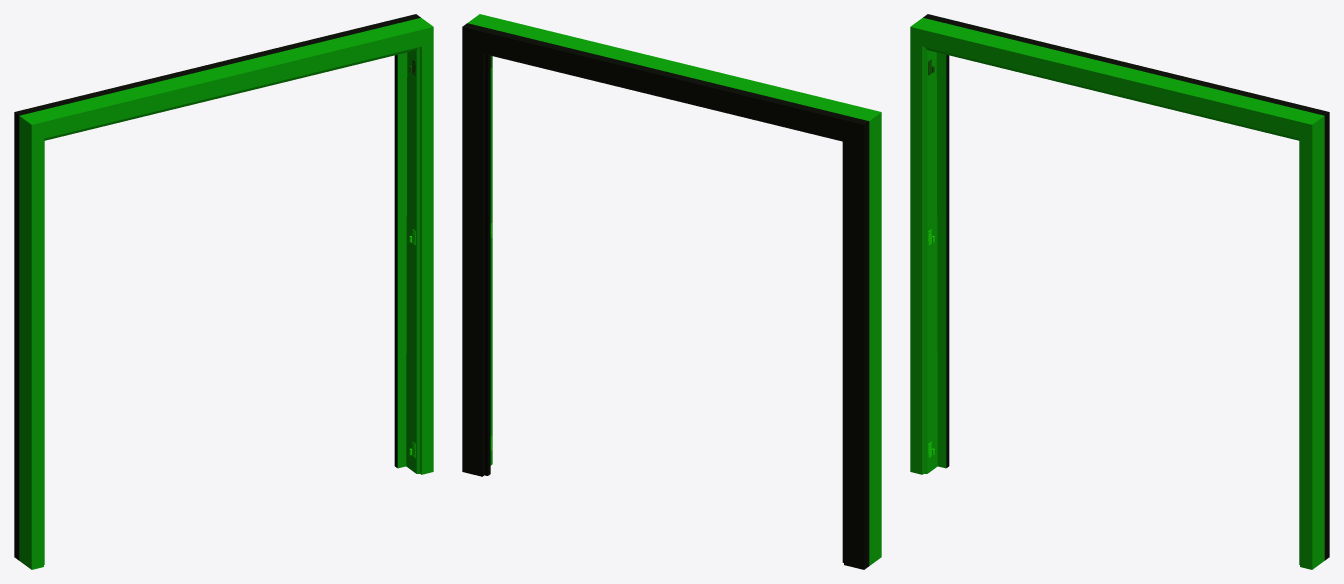
File: doorframe_double.fbx
The picture shows the model from 3 angles, left to right: view 1: azimuth 30°, elevation 25°; view 2: azimuth 150°, elevation 25°; view 3: azimuth 330°, elevation 25°; orthographic projection.
Visible parts, largest first — view 1: door_frame.006; view 2: door_frame.006; view 3: door_frame.006.
Boxes of the visible parts, <box> form: door_frame.006: <box>14,14,433,569</box>; door_frame.006: <box>462,14,881,569</box>; door_frame.006: <box>910,14,1329,569</box>.
Size of the model in its own units: 198 by 210 by 15.
